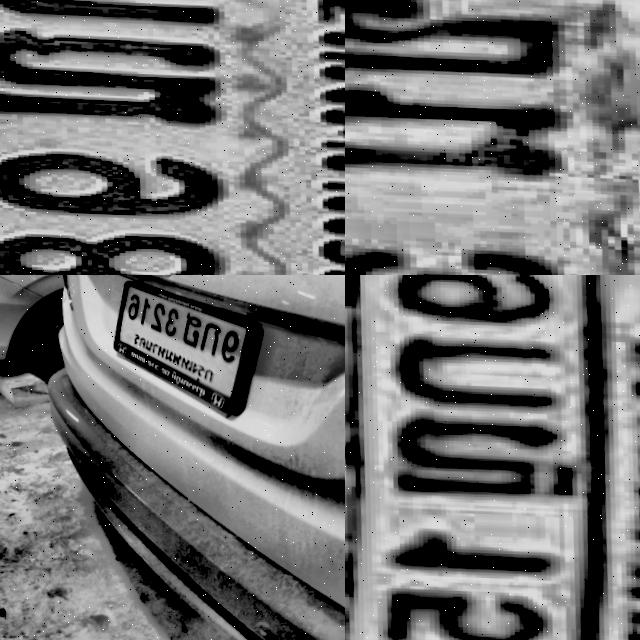license-plate: (345, 275, 640, 640), (0, 0, 345, 275), (345, 0, 640, 275)
